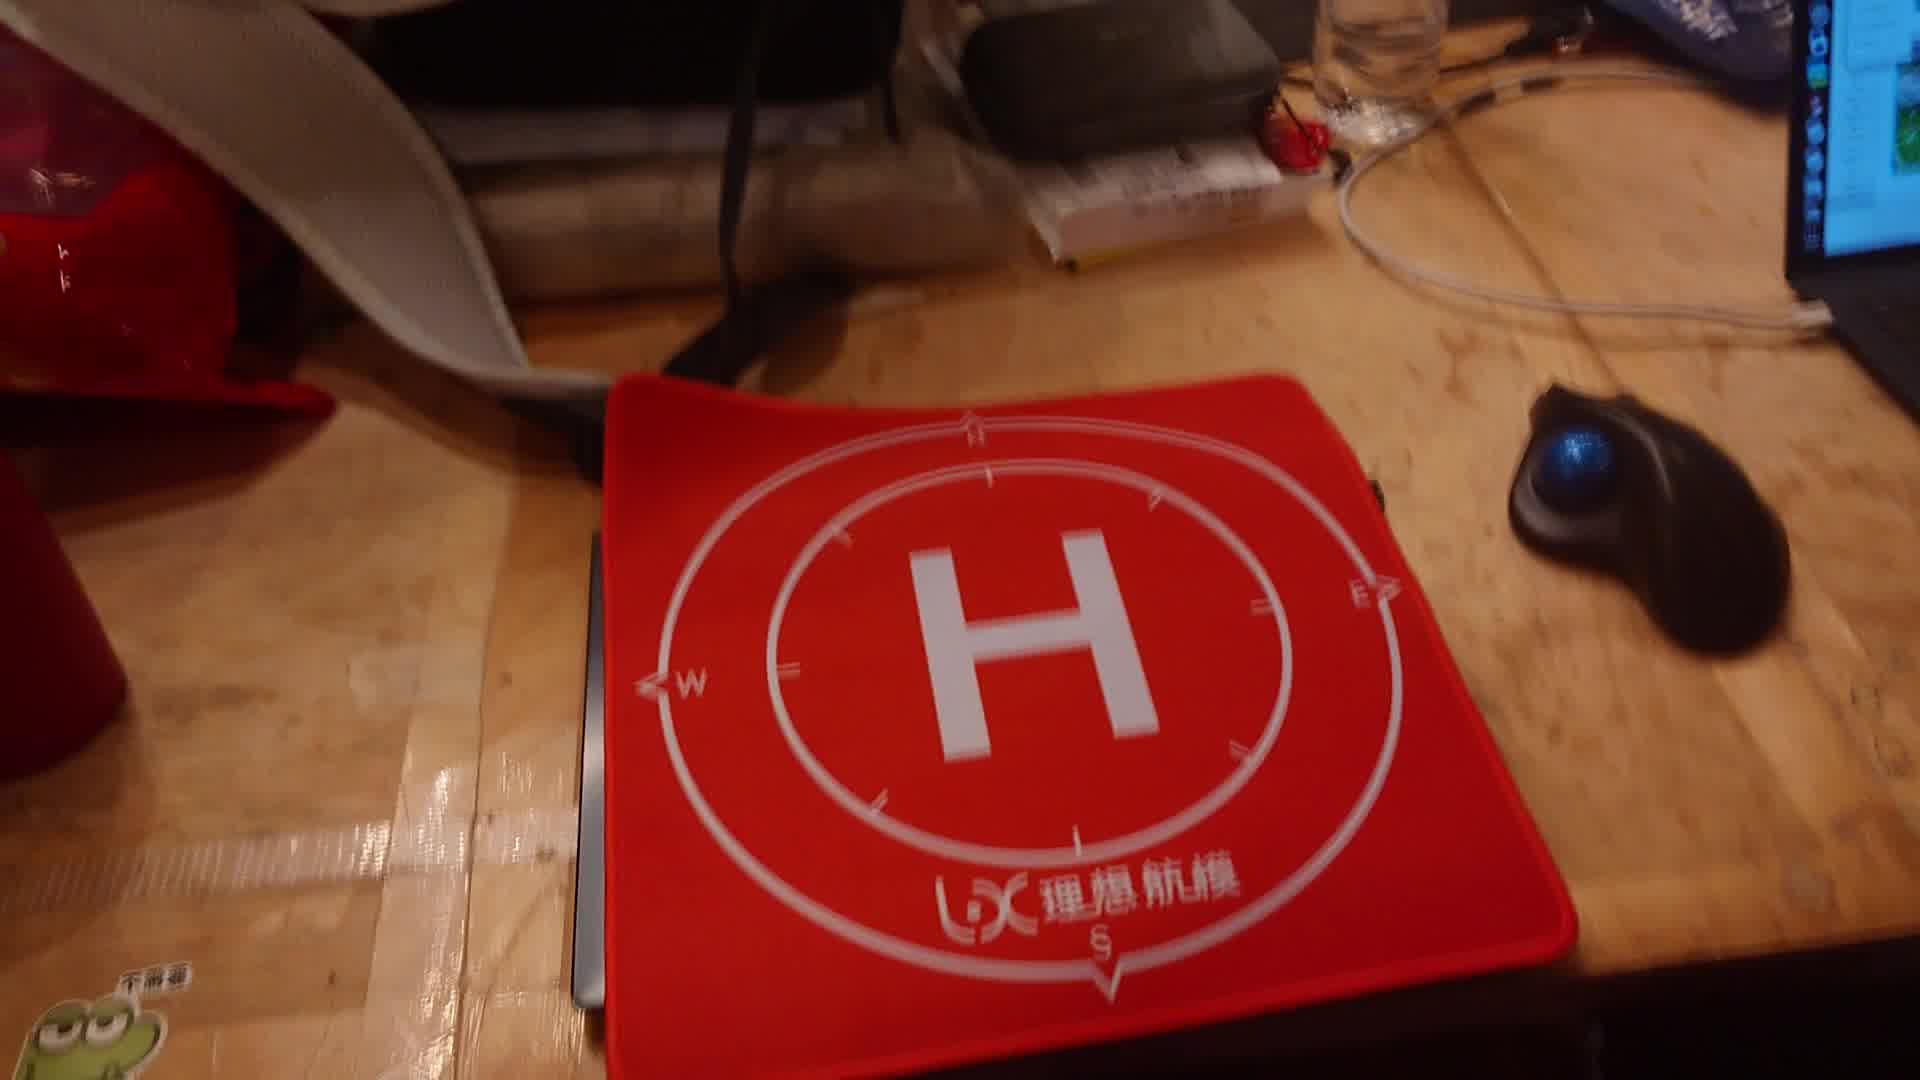H: (905, 530, 1162, 762)
